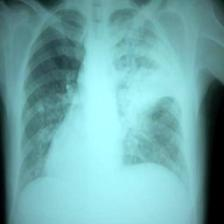tuberculosis: (10, 3, 196, 209)
